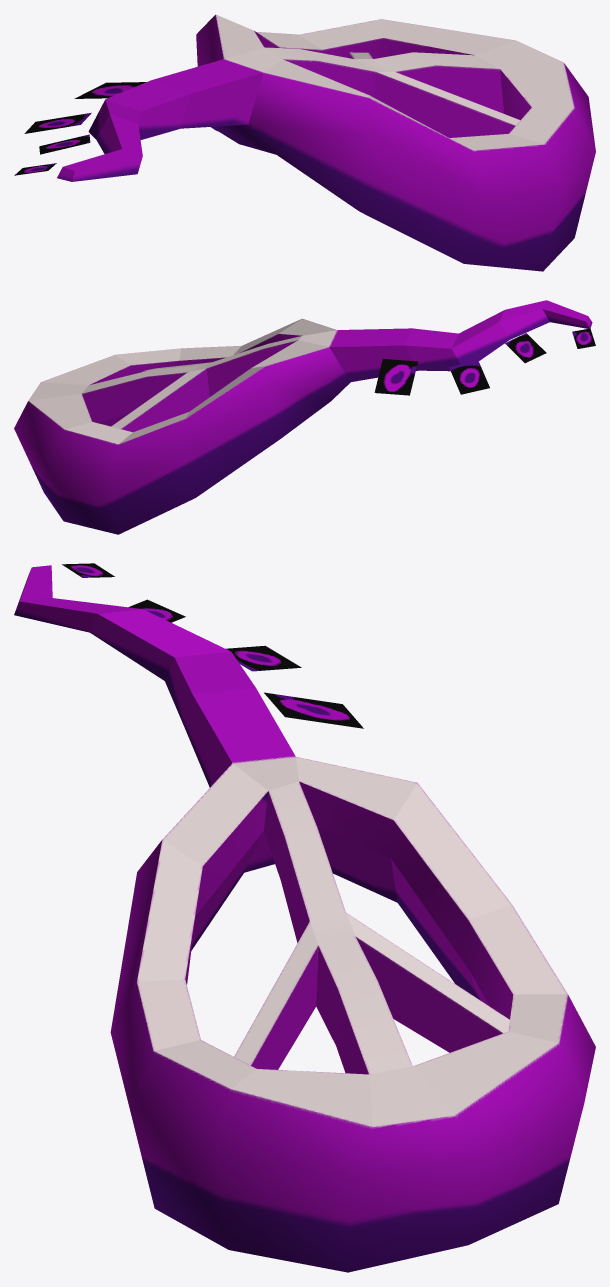
File: mushroom_2.fbx
The picture shows the model from 3 angles, top to bottom: view 1: azimuth 30°, elevation 25°; view 2: azimuth 150°, elevation 25°; view 3: azimuth 270°, elevation 25°; orthographic projection. The views are drawn at different scales.
Parts seen in each view (by area): view 1: Sphere005; view 2: Sphere005; view 3: Sphere005.
Boxes of the visible parts, box(x1,y1,x2,y2) form: Sphere005: box(14, 14, 595, 271); Sphere005: box(14, 300, 595, 534); Sphere005: box(14, 563, 595, 1272).
Size of the model in its own units: 11.81 by 7.06 by 4.54.
